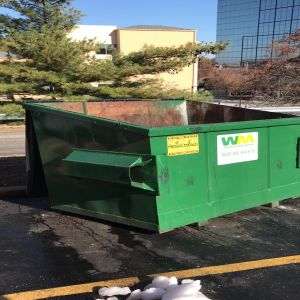Dumpster: (16, 98, 300, 236)
